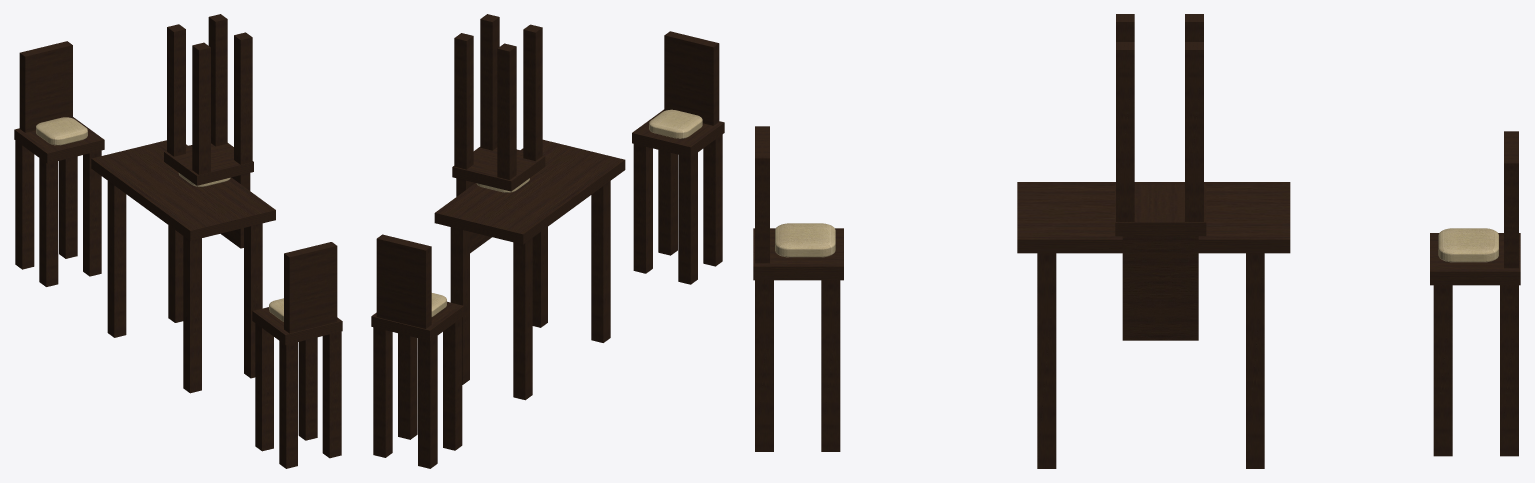
Rendered from tall_chairs.dae.
The picture shows the model from 3 angles, left to right: view 1: azimuth 30°, elevation 25°; view 2: azimuth 150°, elevation 25°; view 3: azimuth 270°, elevation 25°; orthographic projection. The views are drawn at different scales.
Parts seen in each view (by area): view 1: Cube, Cube_001, Cube_016, Cube_011, Cube_002, Cube_008, Cube_005, Cube_004, Cube_014, Cube_009, Cube_015, Cube_003 (+3 smaller); view 2: Cube, Cube_001, Cube_016, Cube_002, Cube_011, Cube_005, Cube_008, Cube_014, Cube_009, Cube_004, Cube_015, Cube_010 (+3 smaller); view 3: Cube_001, Cube, Cube_013, Cube_016, Cube_002, Cube_015, Cube_009, Cube_011, Cube_003, Cube_010, Cube_008, Cube_005 (+2 smaller).
Boxes of the visible parts, x1,y1,x2,y2 form: Cube: (107,181,262,393); Cube_001: (91,140,275,240); Cube_016: (167,14,252,164); Cube_011: (255,323,341,468); Cube_002: (15,140,101,276); Cube_008: (284,242,337,333); Cube_005: (19,41,72,132); Cube_004: (39,158,58,286); Cube_014: (192,42,210,174); Cube_009: (298,337,317,440); Cube_015: (164,143,253,185); Cube_003: (14,117,104,163); Cube: (450,181,610,400); Cube_001: (434,139,625,244); Cube_016: (454,14,516,179); Cube_002: (373,327,437,468); Cube_011: (658,134,722,284); Cube_005: (376,234,431,328); Cube_008: (664,31,719,125); Cube_014: (523,24,542,160); Cube_009: (633,144,652,273); Cube_004: (443,318,462,450); Cube_015: (452,147,545,191); Cube_010: (632,109,724,157); Cube_001: (1017,182,1290,253); Cube: (1037,253,1264,468); Cube_013: (1122,236,1198,340); Cube_016: (1116,14,1203,221); Cube_002: (1433,285,1518,456); Cube_015: (1115,184,1206,236); Cube_009: (821,280,840,451); Cube_011: (755,280,773,451); Cube_003: (1430,233,1520,285); Cube_010: (753,228,843,280); Cube_008: (755,126,769,263); Cube_005: (1504,131,1518,268).
Bounding box in the file's own units: 2.1 × 10.13 × 6.28.
17 materials, 17 textured.
